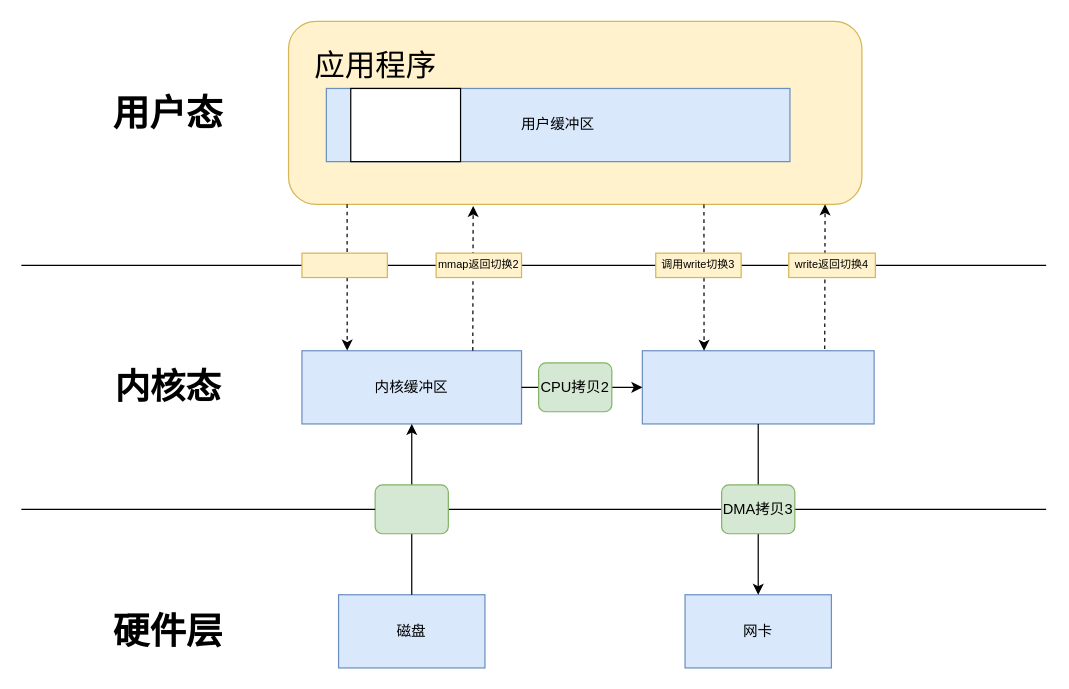
This 1069x689 diagram has some shape labels left out. Each missing label, with the centre of its shape:
"DMA拷贝1" goes at pixel 411 509.
"mmap映射地址" goes at pixel 405 124.
"socket缓冲区" goes at pixel 757 387.
"调用mmap切换1" goes at pixel 344 265.
